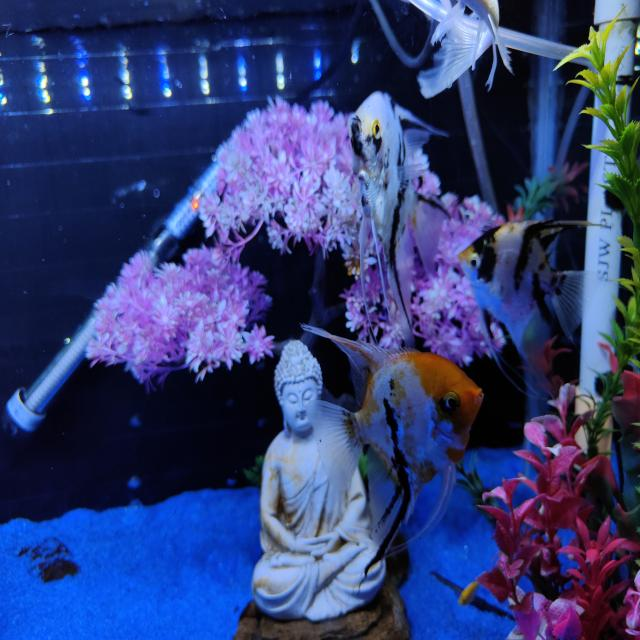Fish: (302, 325, 483, 566), (349, 92, 447, 346), (459, 221, 589, 387), (418, 0, 512, 98)
